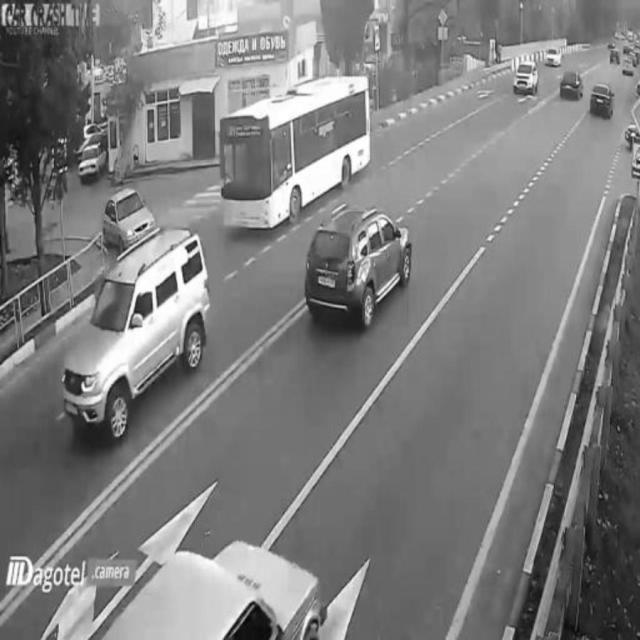vehicle: (63, 230, 209, 447), (218, 73, 366, 230), (302, 210, 404, 323), (101, 189, 153, 250), (590, 77, 616, 125), (556, 66, 586, 106), (508, 61, 538, 95), (79, 146, 106, 181), (538, 39, 562, 69), (620, 54, 634, 81)
